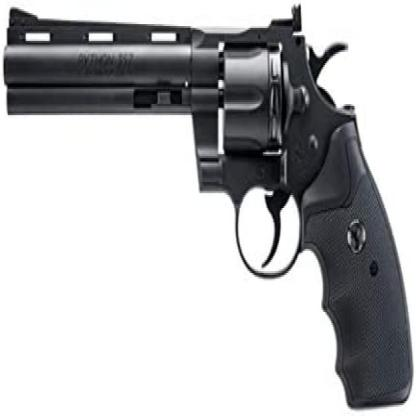handgun: (3, 6, 416, 408)
